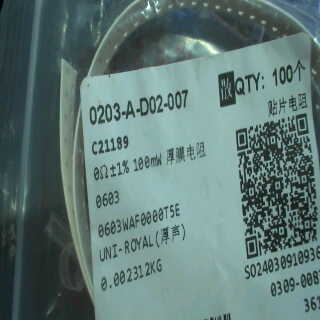0R: (89, 150, 166, 211)
